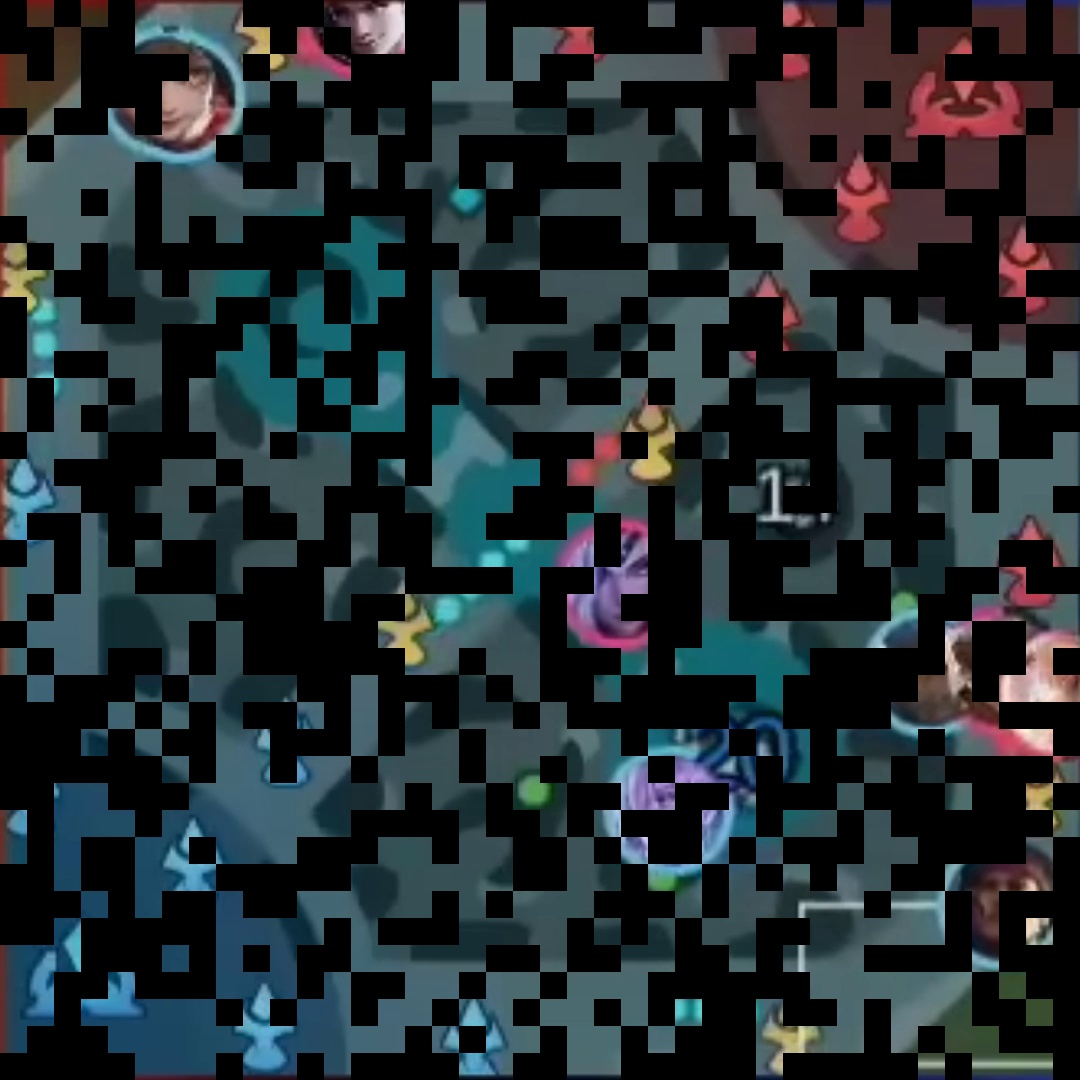Chou: (969, 620, 1009, 717)
Claude: (329, 4, 405, 64)
Fredrinn: (887, 624, 956, 716)
Lapu-Lapu: (966, 854, 1043, 952)
Novaria: (627, 767, 709, 859)
Valentina: (575, 537, 657, 634)
Wanwan: (119, 50, 209, 135)
